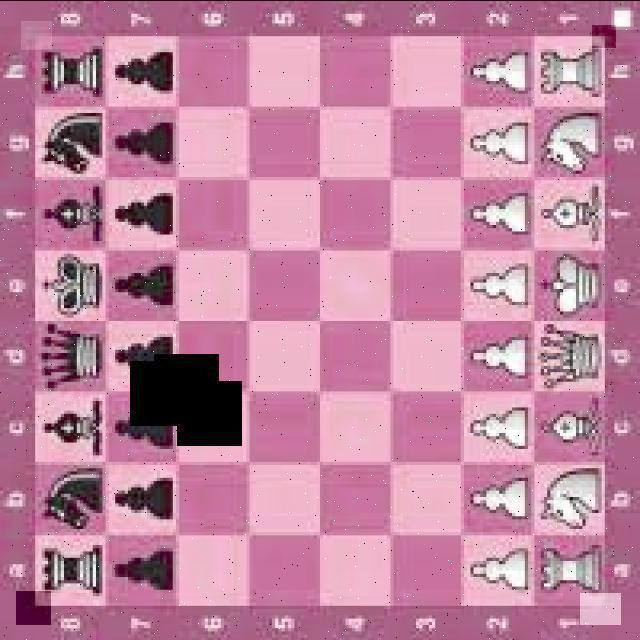chess-table-corners: (580, 592, 621, 624), (16, 590, 51, 624), (21, 20, 52, 49), (592, 24, 616, 47)
